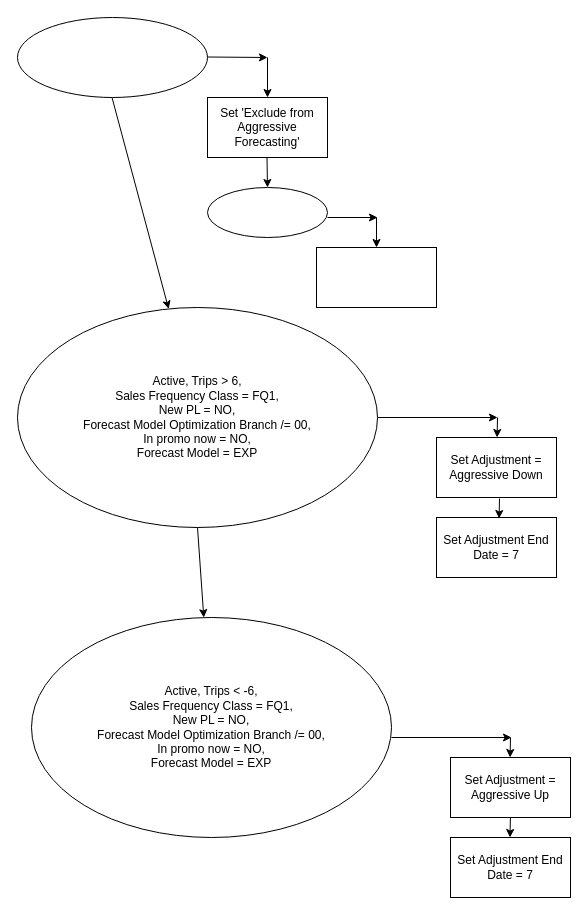
This 588x915 diagram has some shape labels left out. Each missing label, with the centre of its shape:
Active, Trips = +/- 1: [112,57]
Checks for active Adjustment: [267,212]
Set end date to yesterday to clear Adjustment: [376,277]
